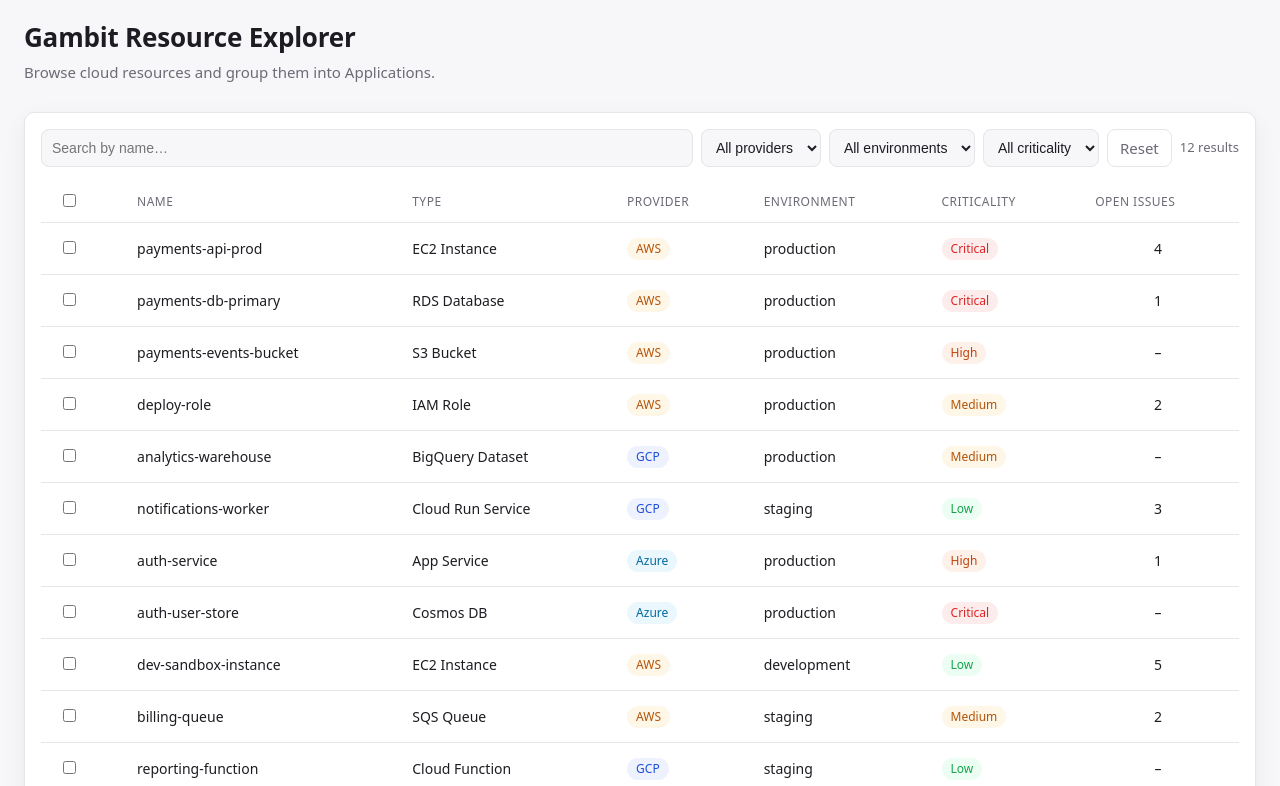
Gambit Resource Explorer - main flows › deletes an Application and restores the empty state
Click the checkbox named "Select payments-api-prod" at {"x": 70, "y": 248}, box [63,241,76,254]
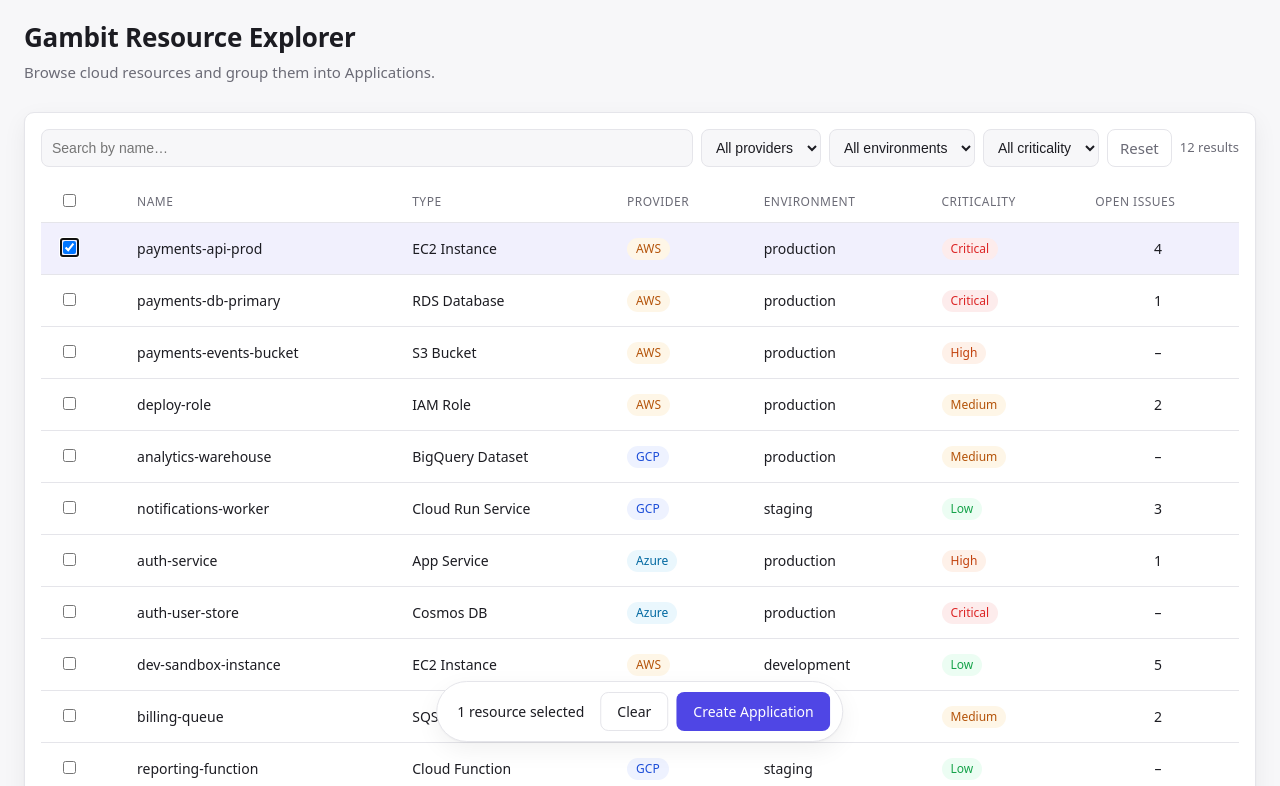
Click the button "Create Application" at {"x": 754, "y": 712}, box [676,692,831,731]
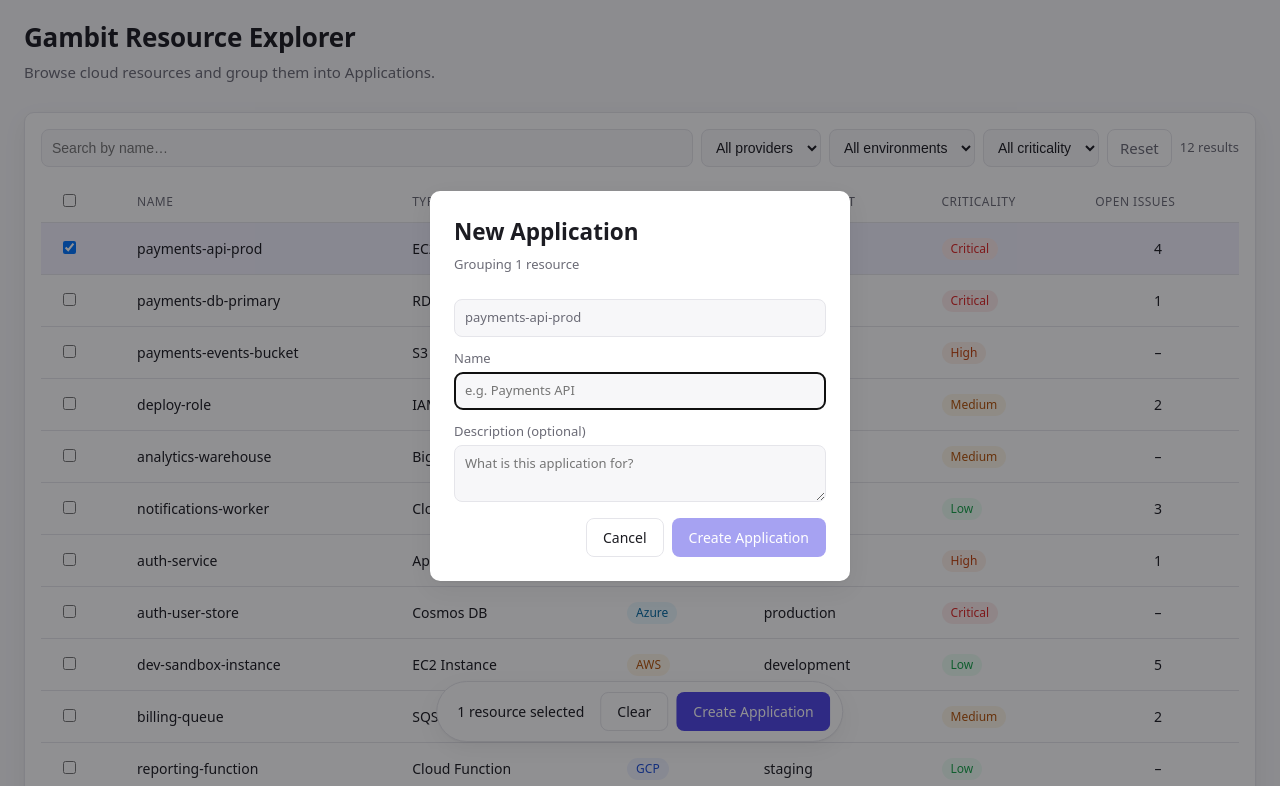
Type "Payments Core" into the field labelled "Name" at {"x": 640, "y": 391}, box [454,372,826,410]
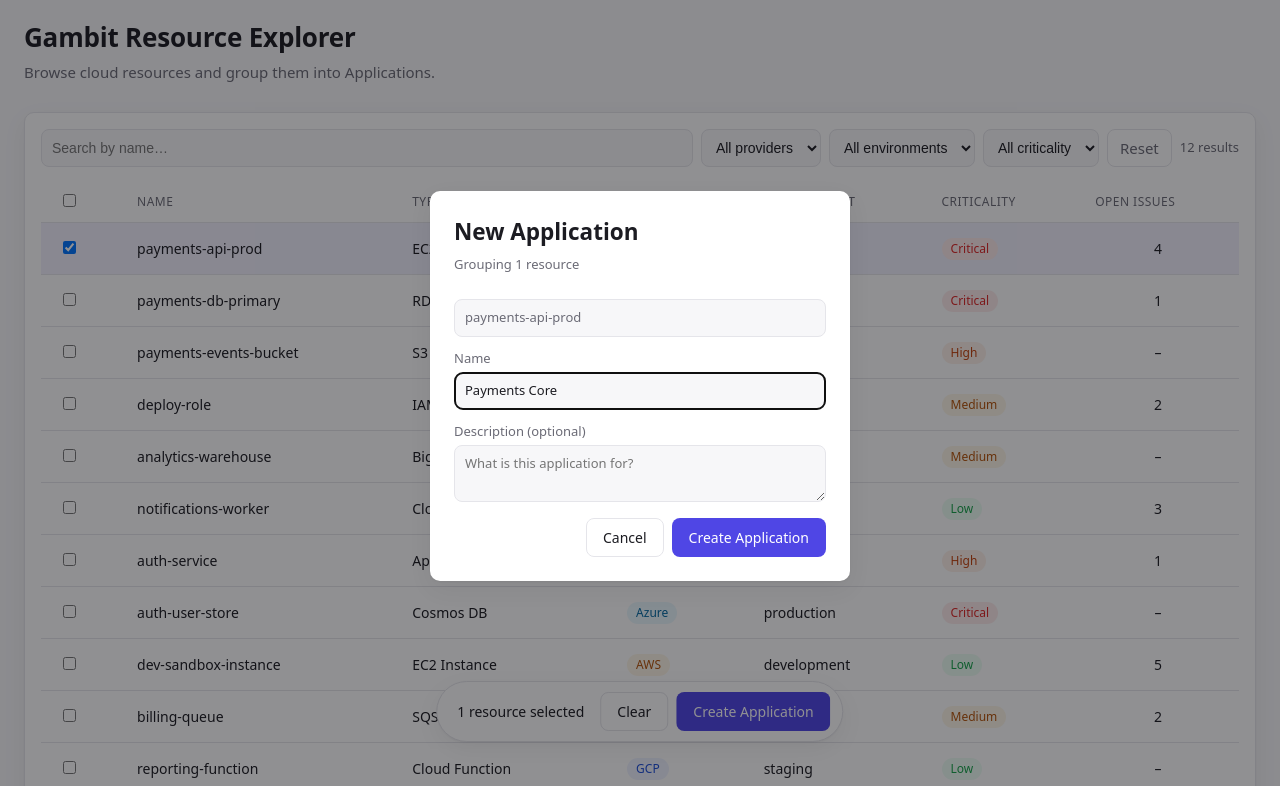
Click the button "Create Application" at {"x": 749, "y": 538}, box [672,518,826,557]
(page scrolled)
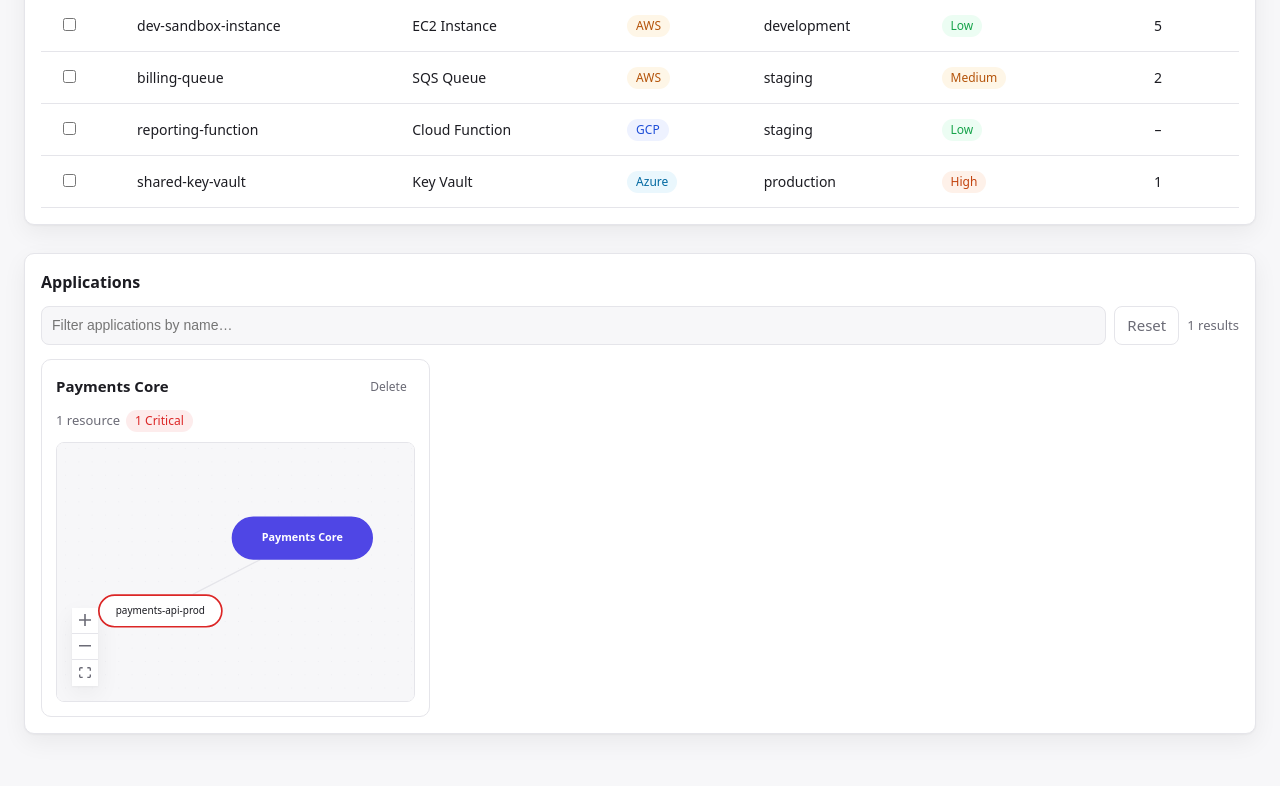
Expected: the heading "Payments Core" is shown, [56,375,168,398]
Click the button with aria-label "Delete Payments Core" at {"x": 388, "y": 386}, box [362,374,415,400]
(page scrolled)
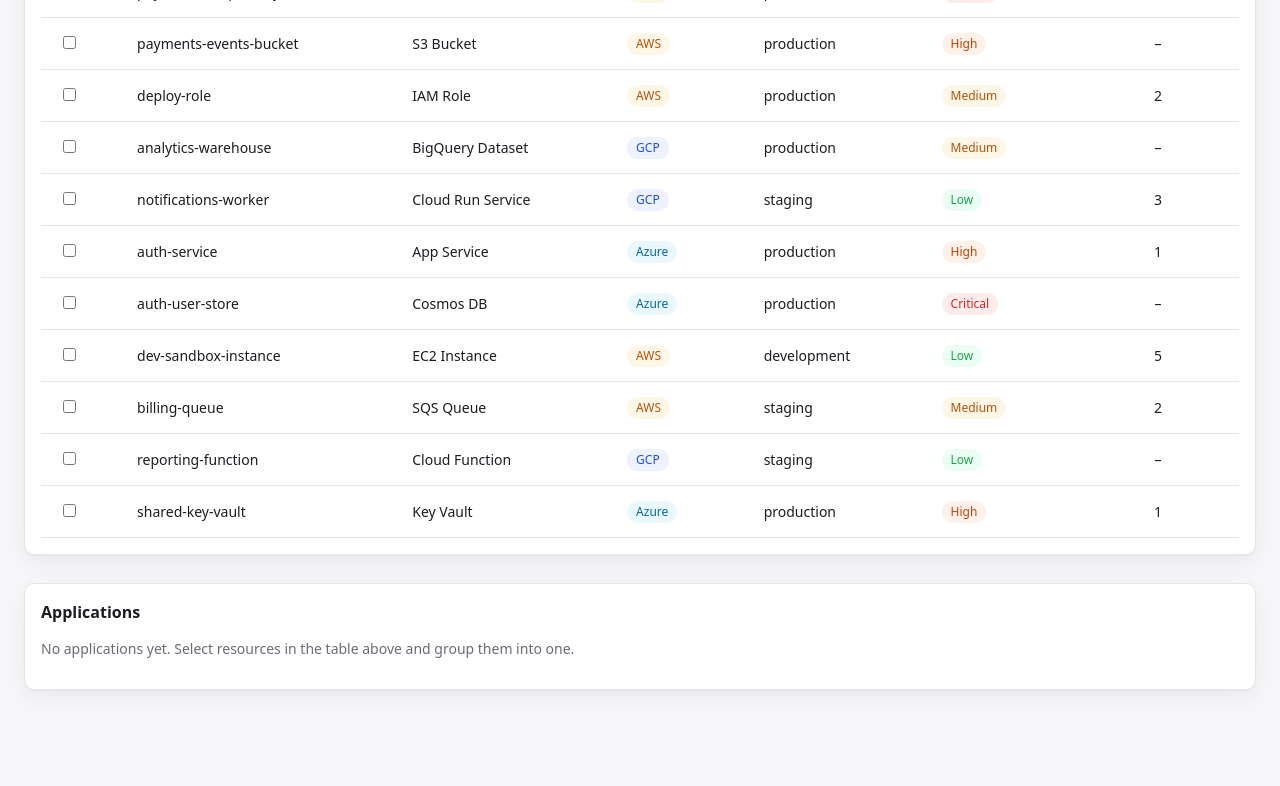
Expected: the heading "Payments Core" is gone
Expected: the text "No applications yet" is shown, [41,639,574,658]
